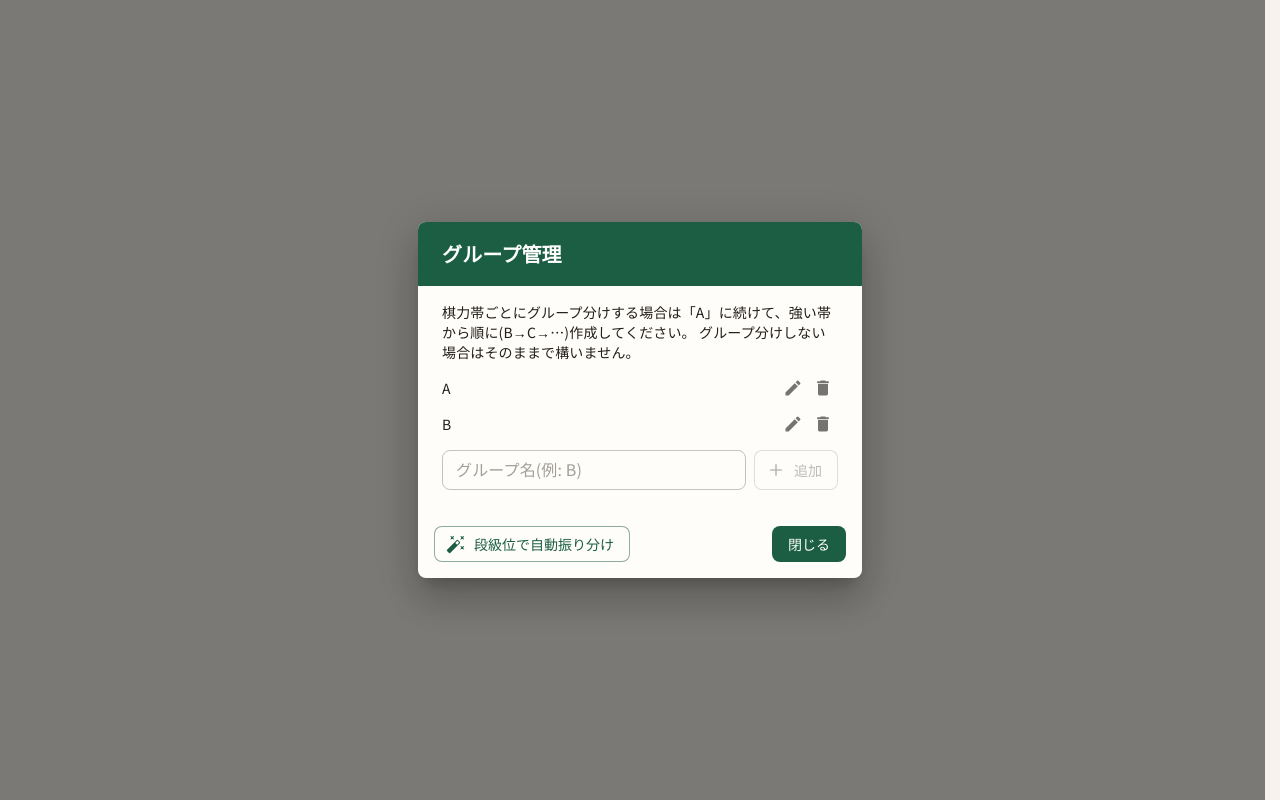
GroupManagerDialog › 自動振り分けは確認ダイアログを経て実行され、成功を通知する
The image size is (1280, 800).
Expected: the text "A" is shown, x1=442 y1=378 x2=451 y2=398
Click the button "段級位で自動振り分け".
click(532, 544)  # box x1=434 y1=526 x2=630 y2=562
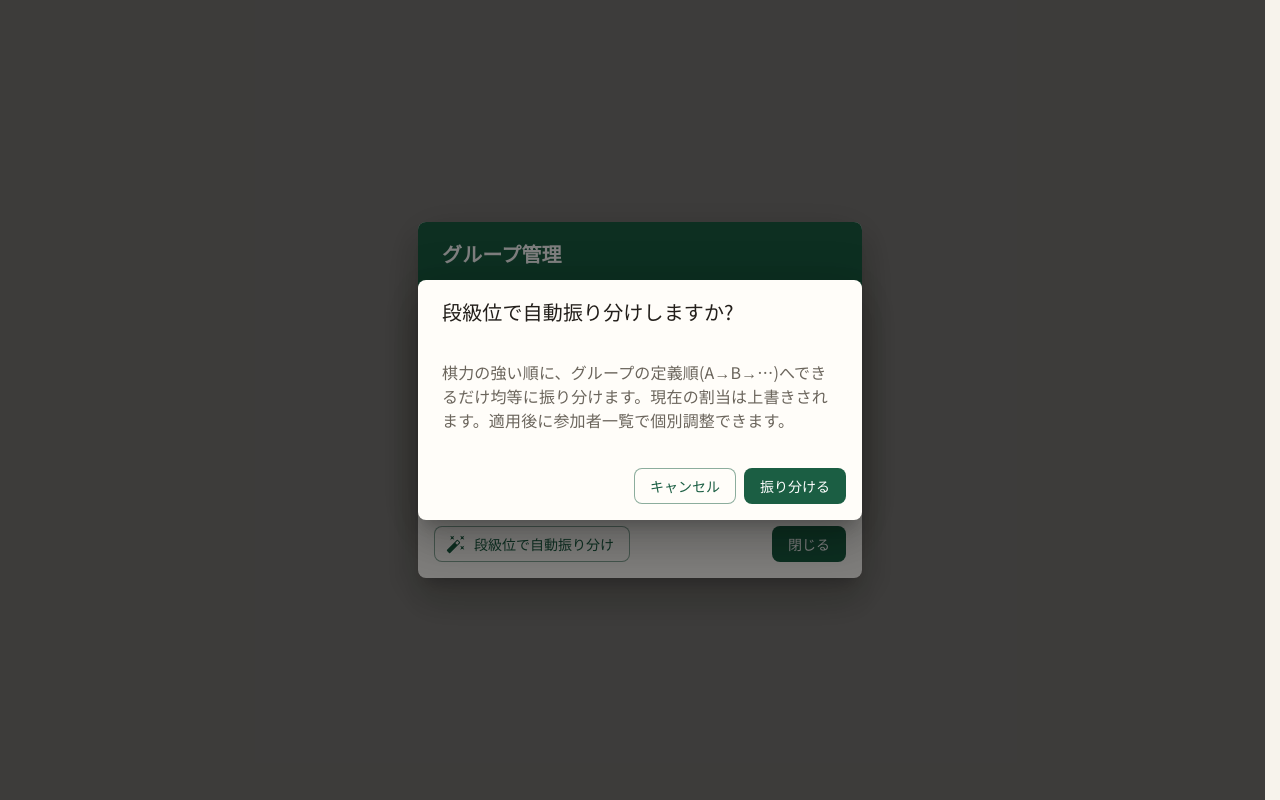
Note: 確認ダイアログで承認して初めて実行される
Click the button "振り分ける".
click(795, 486)  # box x1=744 y1=468 x2=846 y2=504
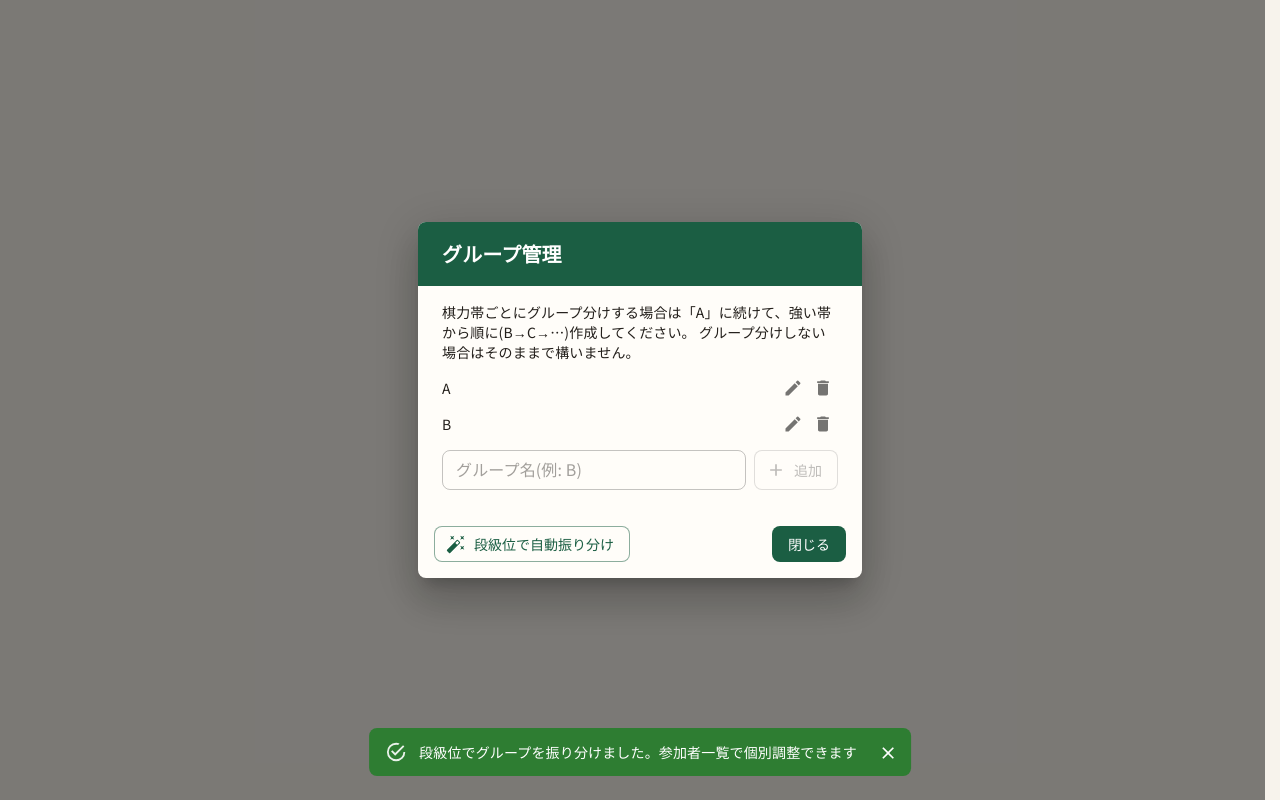
Expected: the text "段級位でグループを振り分けました。参加者一覧で個別調整できます" is shown, x1=419 y1=742 x2=857 y2=762
